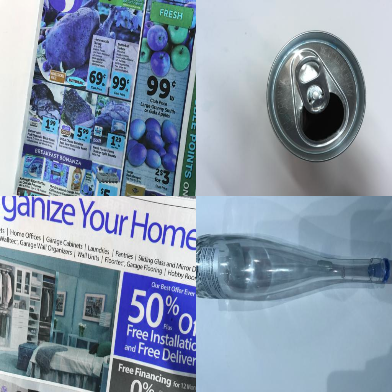glass: (195, 235, 391, 301)
metal: (265, 29, 367, 163)
paper: (1, 197, 196, 391), (10, 1, 195, 195)
